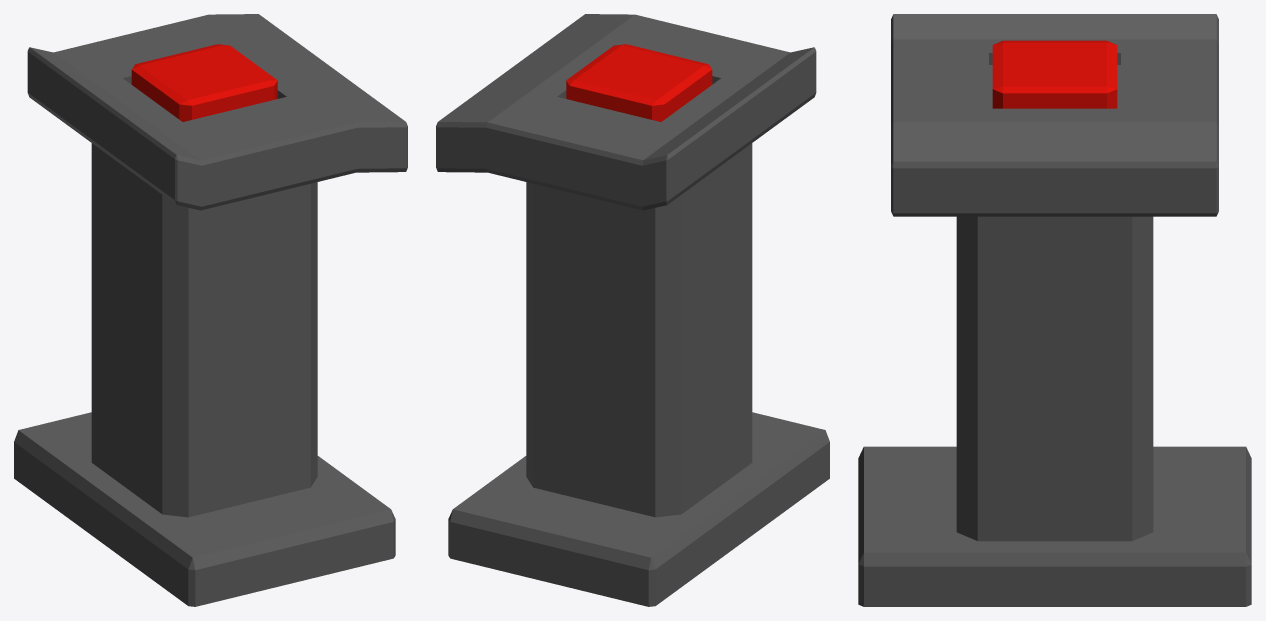
The model's file is StandingButton.fbx.
3 renders of one model, left to right at view 1: azimuth 30°, elevation 25°; view 2: azimuth 150°, elevation 25°; view 3: azimuth 270°, elevation 25°, orthographic. The views are drawn at different scales.
Visible parts, largest first — view 1: Cube, Cube.001; view 2: Cube, Cube.001; view 3: Cube, Cube.001.
Part boxes in pixels (box(x1,y1,x2,y2)): Cube: box(14, 14, 407, 606); Cube.001: box(131, 44, 277, 121); Cube: box(436, 14, 829, 606); Cube.001: box(566, 44, 712, 121); Cube: box(858, 14, 1251, 606); Cube.001: box(992, 40, 1117, 108).
Bounding box in the file's own units: 45 × 81.97 × 60.
